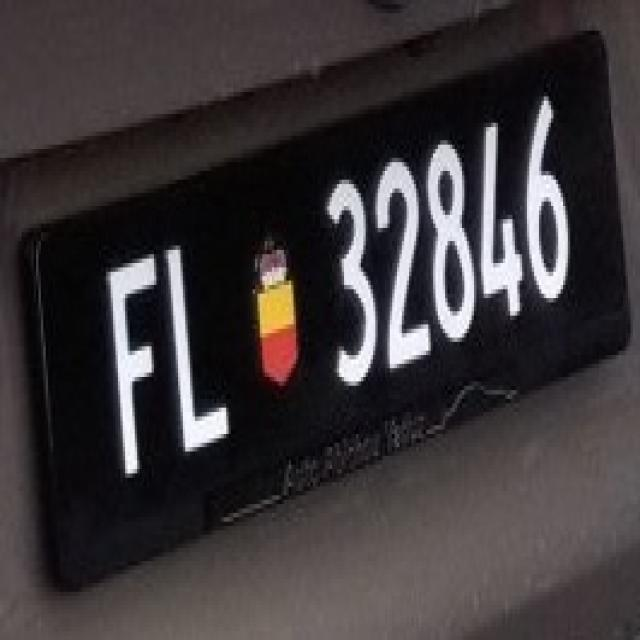2: (363, 140, 431, 373)
3: (312, 157, 382, 390)
4: (466, 101, 532, 320)
6: (510, 74, 578, 298)
8: (414, 123, 479, 342)
F: (89, 232, 166, 478)
L: (156, 228, 238, 460)
